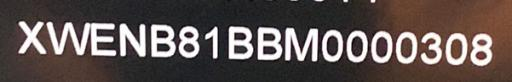letter: (45, 20, 91, 59), (284, 24, 320, 63), (14, 18, 48, 59), (116, 20, 148, 58), (88, 19, 116, 62), (225, 22, 255, 62), (149, 20, 177, 60), (254, 22, 282, 62), (469, 29, 497, 66), (344, 25, 370, 64), (418, 28, 444, 67), (176, 22, 202, 60), (320, 23, 344, 63), (370, 29, 394, 67), (444, 29, 470, 64), (396, 27, 418, 66), (202, 22, 222, 62)
